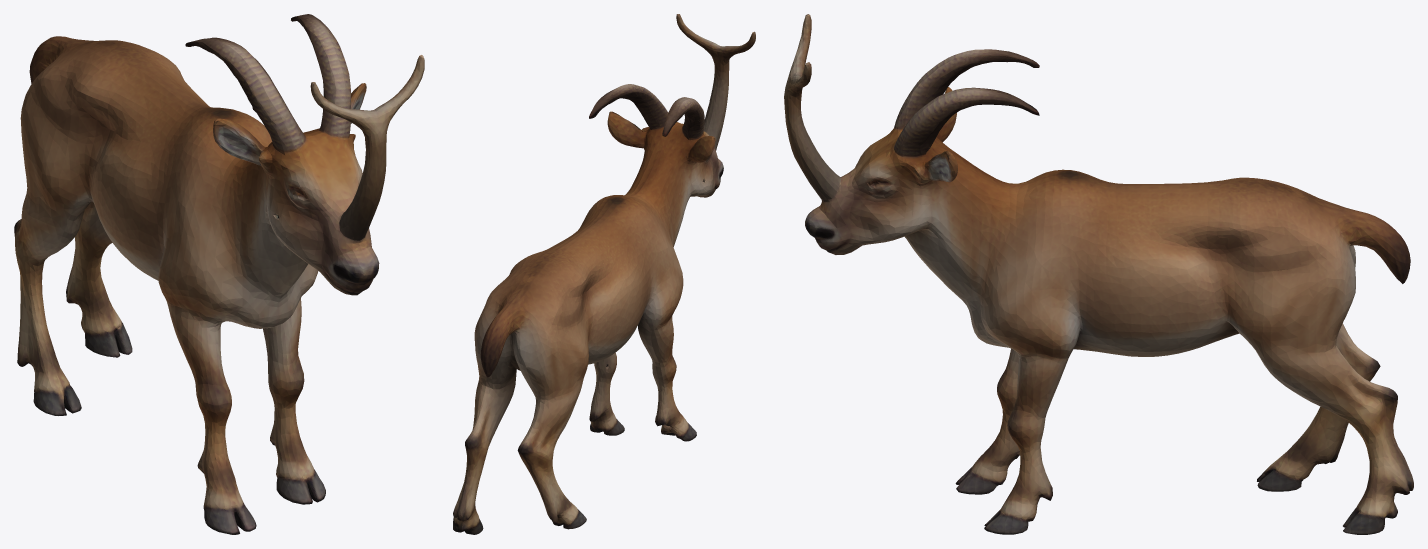
3 views of the same model, side by side, from view 1: azimuth 30°, elevation 25°; view 2: azimuth 150°, elevation 25°; view 3: azimuth 270°, elevation 25° (orthographic). The views are drawn at different scales.
Parts seen in each view (by area): view 1: world; view 2: world; view 3: world.
Part boxes in pixels (bbox=[...]): world: bbox=[14, 14, 424, 534]; world: bbox=[453, 14, 755, 534]; world: bbox=[784, 14, 1413, 534].
Size of the model in its own units: 0.5096 by 1.64 by 2.
1 material, 1 textured.
